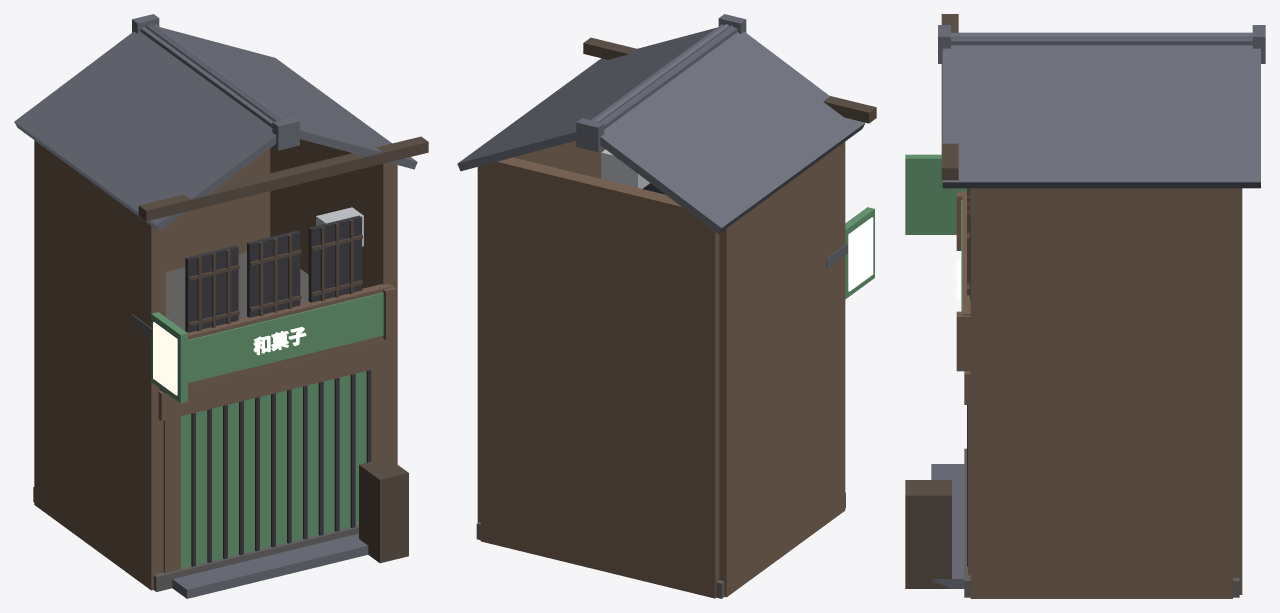
File: prop_shop_wagashi_closed.glb
3 views of the same model, side by side, from view 1: azimuth 30°, elevation 25°; view 2: azimuth 150°, elevation 25°; view 3: azimuth 270°, elevation 25° (orthographic). The views are drawn at different scales.
Visible parts, largest first — view 1: shop_wagashi_closed; view 2: shop_wagashi_closed; view 3: shop_wagashi_closed.
Part boxes in pixels (left/top/right/bottom): shop_wagashi_closed: left=14, top=14, right=428, bottom=598; shop_wagashi_closed: left=457, top=14, right=876, bottom=598; shop_wagashi_closed: left=905, top=14, right=1265, bottom=598.
Bounding box in the file's own units: 3.9 × 5.9 × 3.85.
